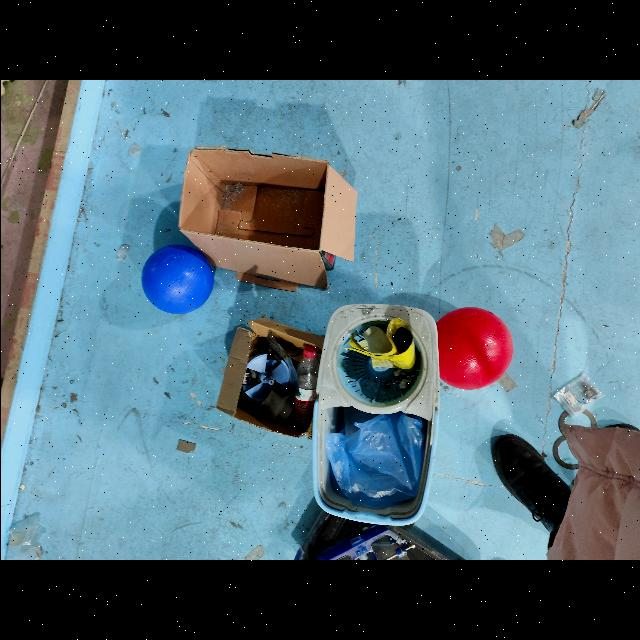B: (139, 244, 213, 316)
R: (430, 307, 514, 391)
